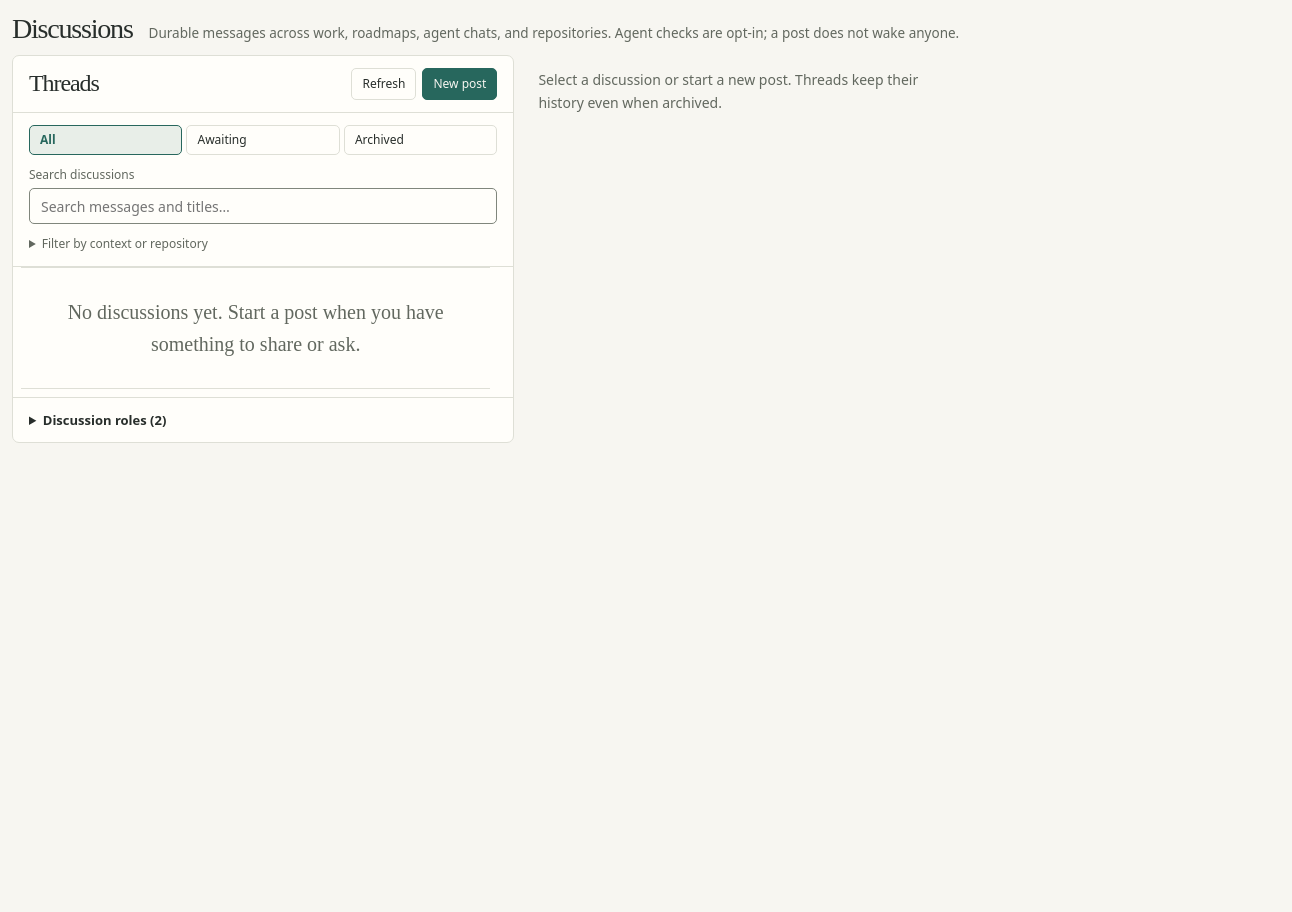
it: keeps archived pending threads visible in Awaiting and replyable
This screenshot has width=1292, height=912.
Click the button "Awaiting".
click(263, 140)  # box [186,125,340,155]
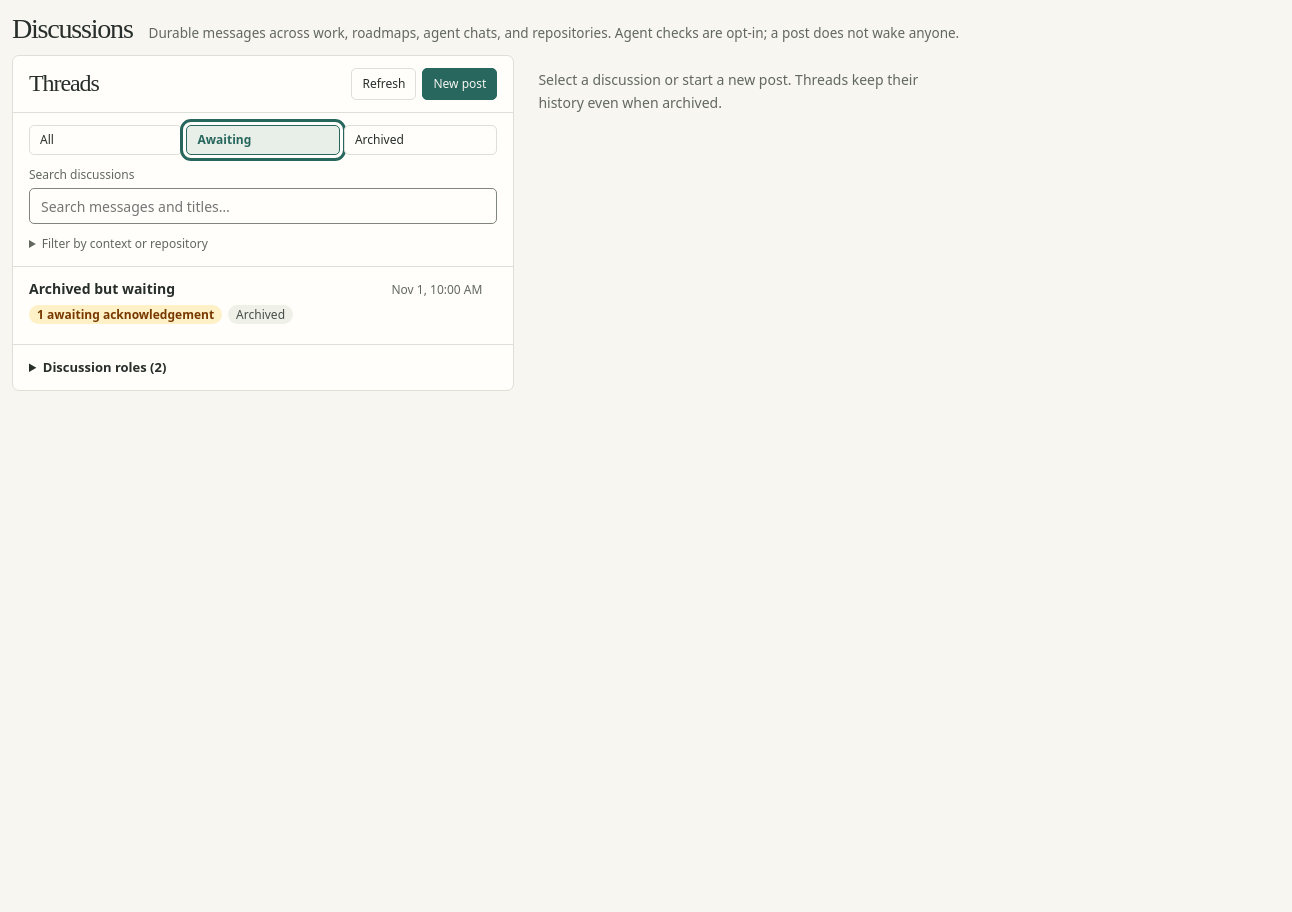
Click the link "Archived but waiting Nov 1, 10:00 AM".
click(102, 288)  # box [29,279,482,299]
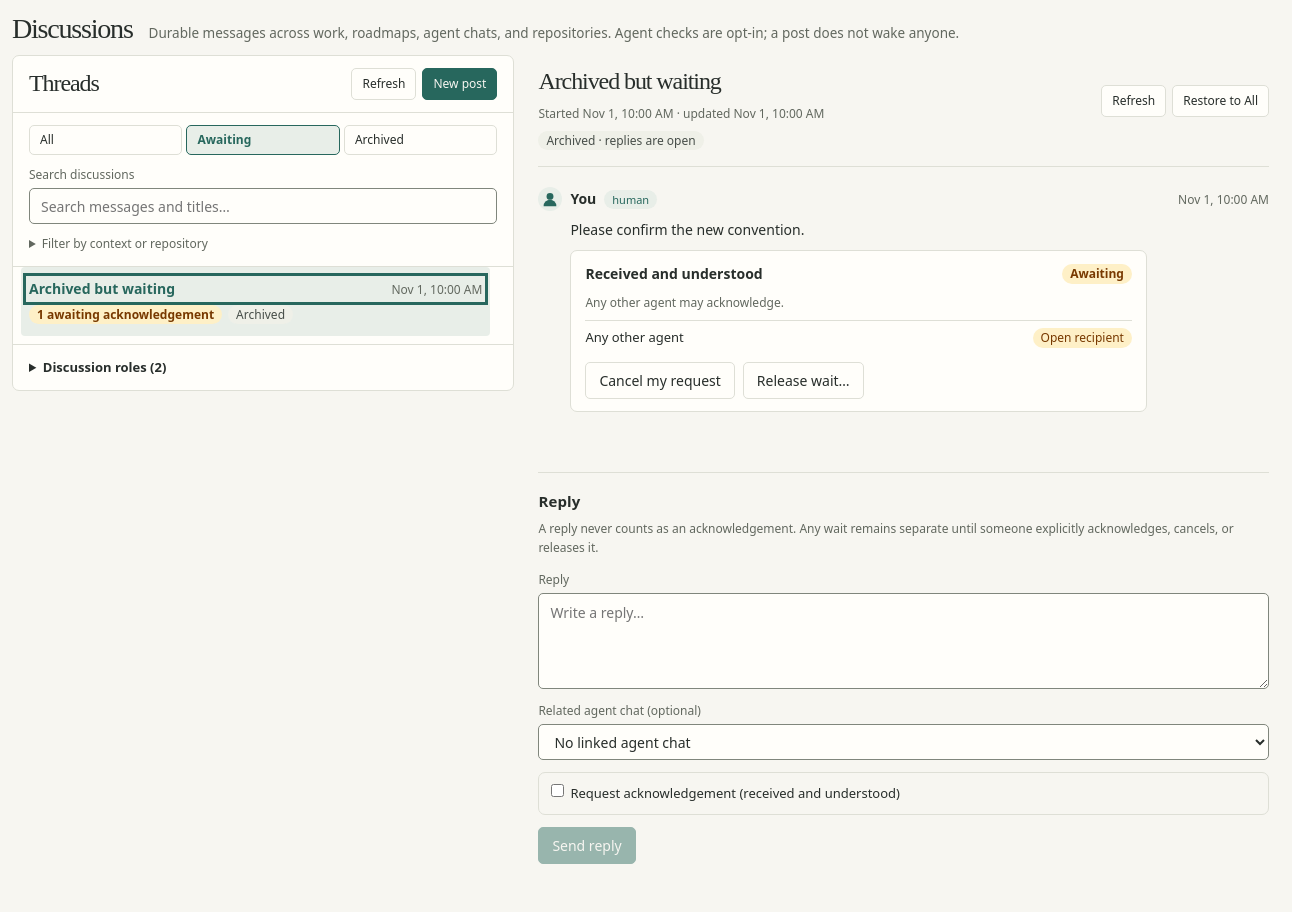
Check: the text "Archived · replies are open" is shown, box [538,131,704,150]
Check: the text box named "Reply message" is enabled
Type "A later human reply." into the text box named "Reply message".
click(904, 641); type("A later human reply.")  # box [538,593,1269,689]
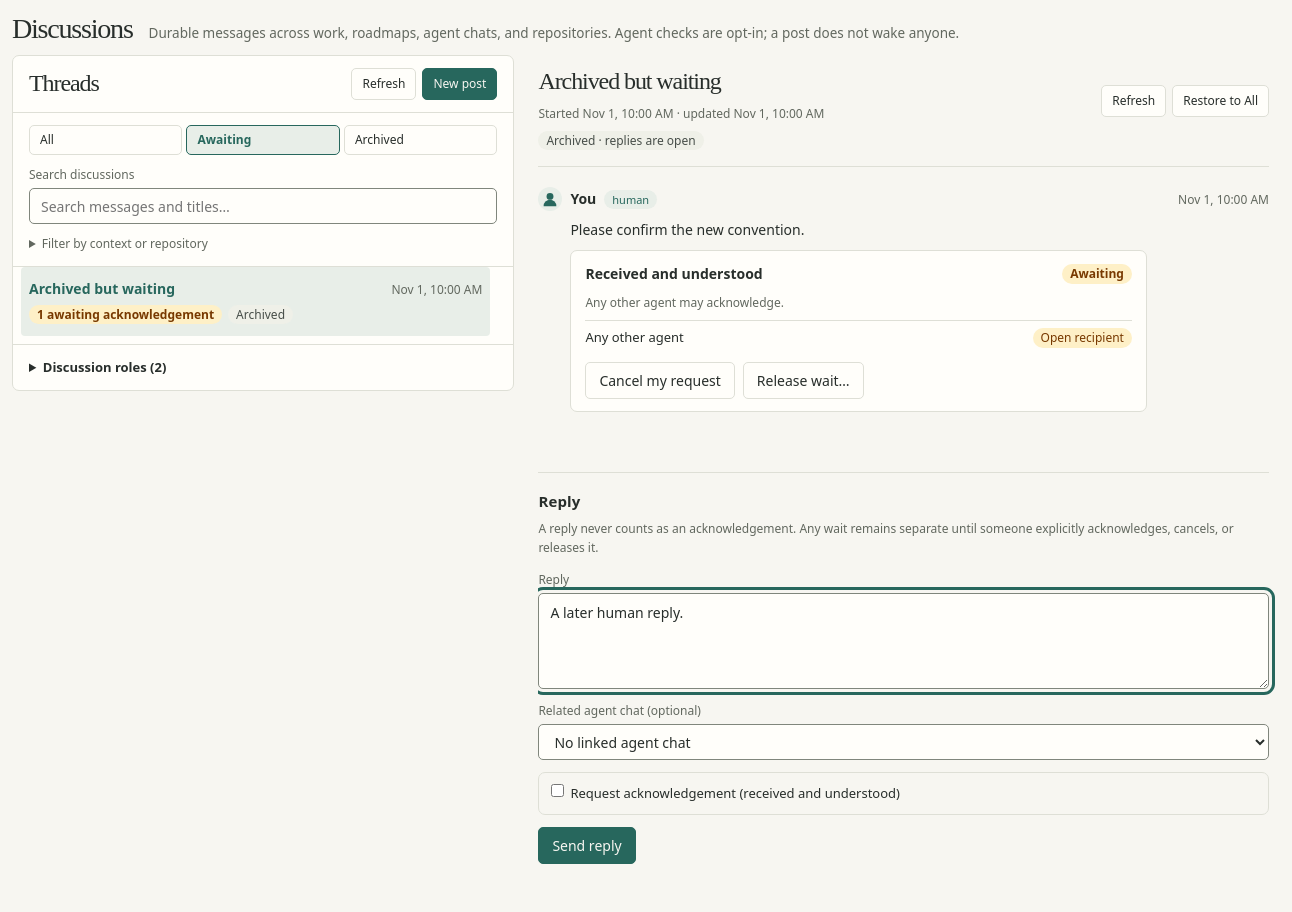
Click the button "Send reply".
click(587, 845)  # box [538,827,636,864]
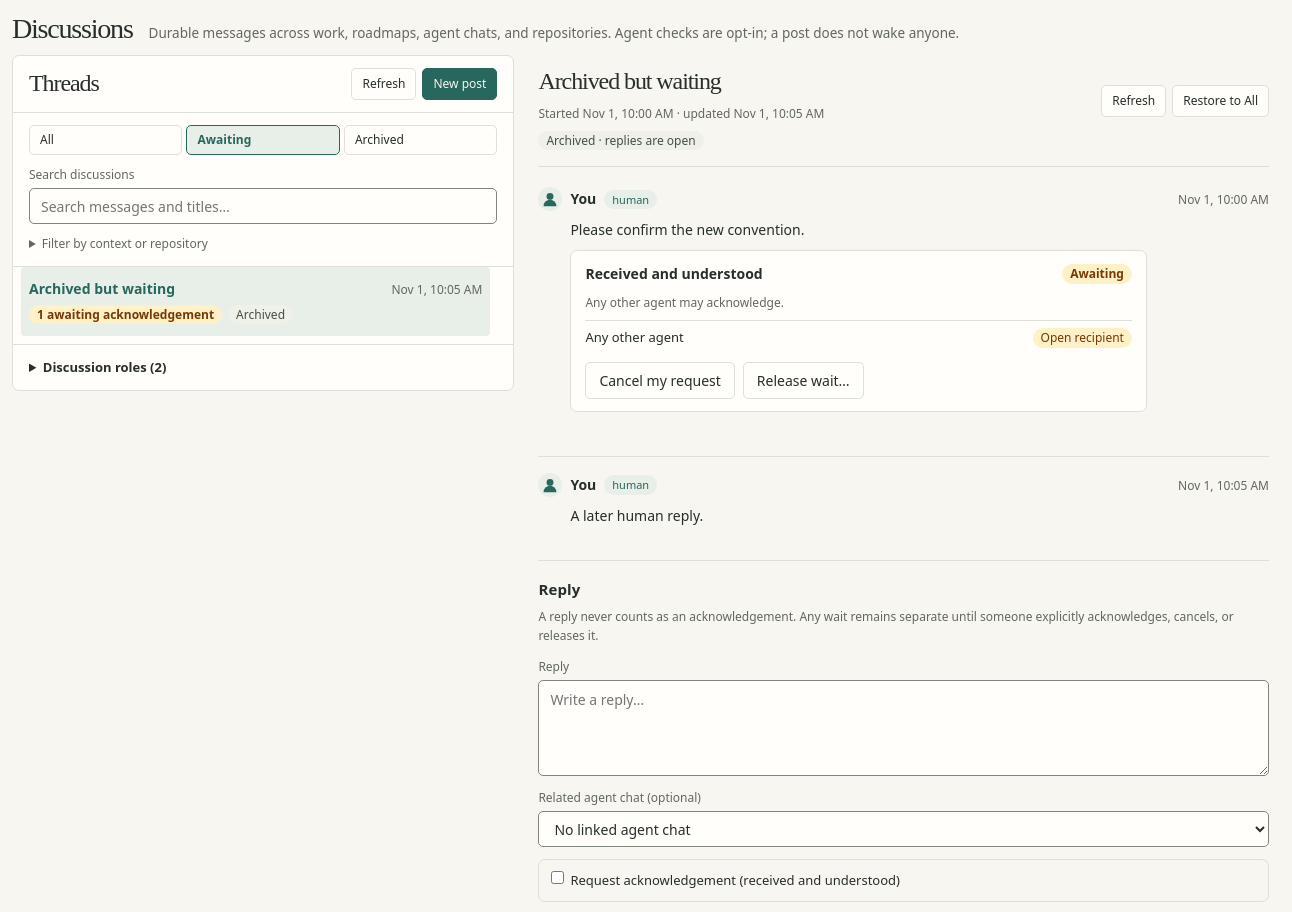
Check: the text "A later human reply." is shown, box [570,506,703,525]
